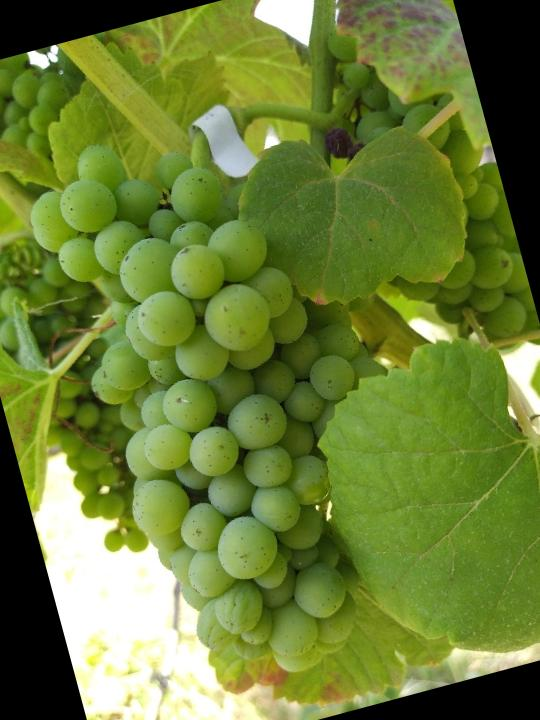grape: (11, 81, 465, 713)
